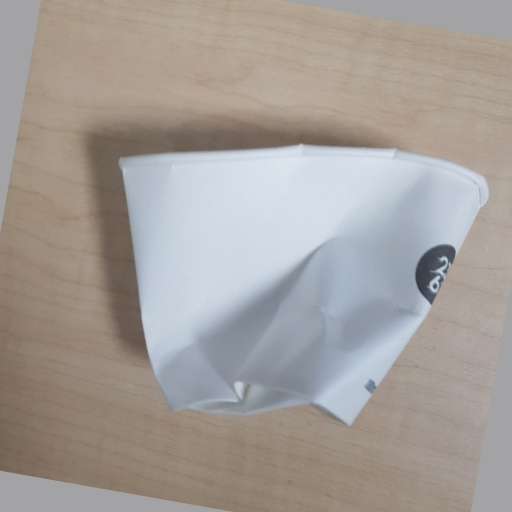Paper_1: (115, 140, 488, 428)
